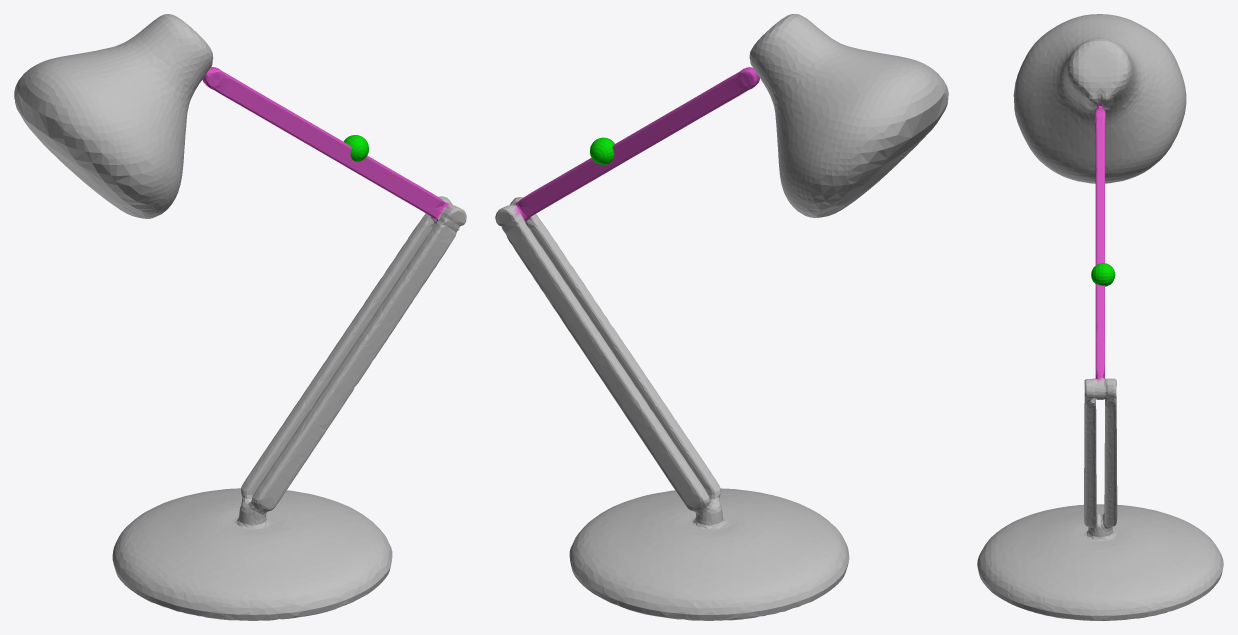
Rendered from lamp_nbb.glb.
3 renders of one model, left to right at view 1: azimuth 30°, elevation 25°; view 2: azimuth 150°, elevation 25°; view 3: azimuth 270°, elevation 25°, orthographic. The views are drawn at different scales.
Size of the model in its own units: 1.25 by 1.59 by 0.7116.
